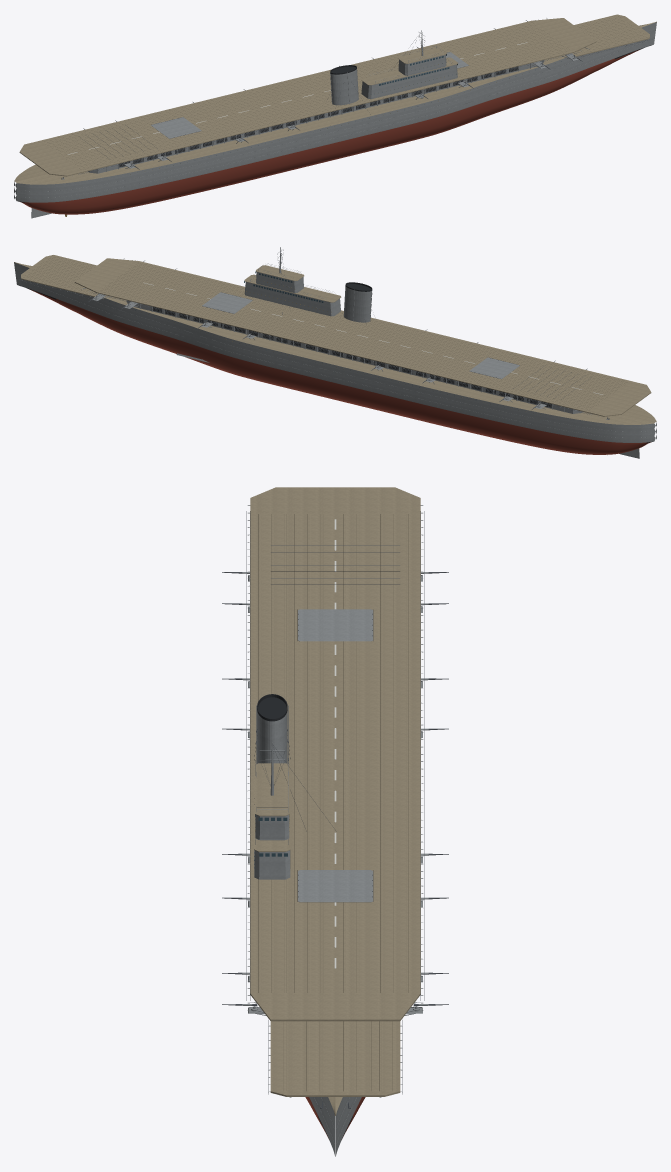
The model's file is courageous_llc.glb.
3 views of the same model, one above another, from view 1: azimuth 30°, elevation 25°; view 2: azimuth 150°, elevation 25°; view 3: azimuth 270°, elevation 25° (orthographic). The views are drawn at different scales.
Parts seen in each view (by area): view 1: Courageous class (carrier conversion); view 2: Courageous class (carrier conversion); view 3: Courageous class (carrier conversion).
Part boxes in pixels (x1,y1,x2,y2): Courageous class (carrier conversion): (14,14,656,218); Courageous class (carrier conversion): (14,247,656,458); Courageous class (carrier conversion): (222,487,448,1156).
Size of the model in its own units: 240 by 39.47 by 36.7.
Materials: 8 (2 with a texture image).
